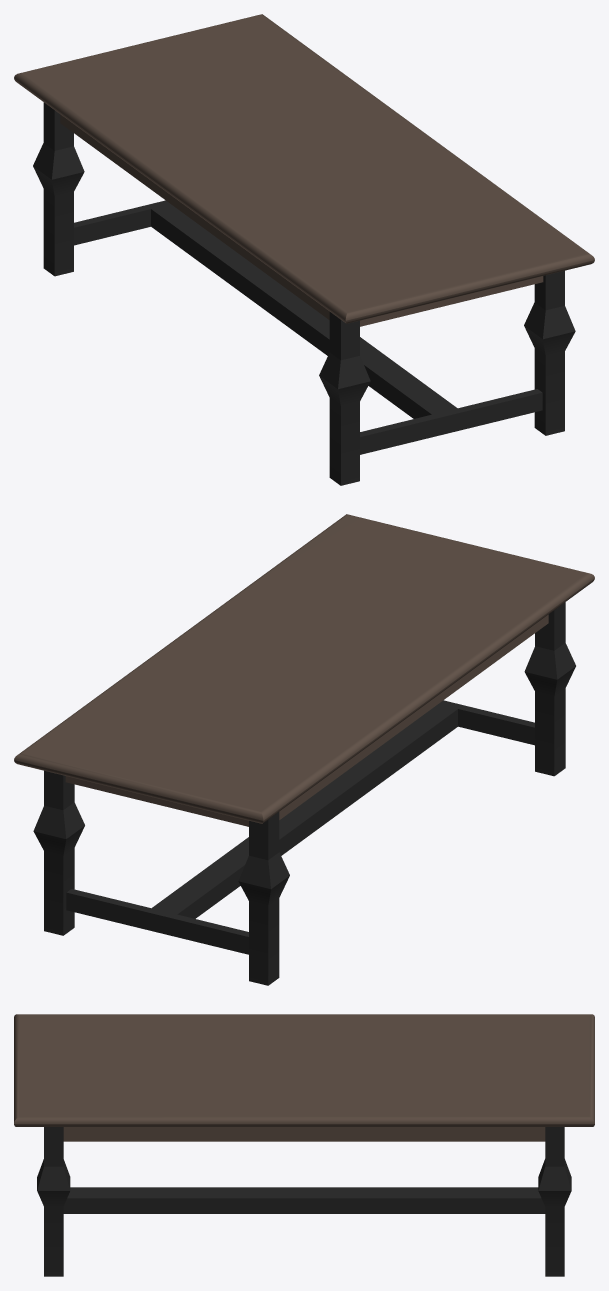
The model's file is GrandeTable_71.fbx.
The picture shows the model from 3 angles, top to bottom: view 1: azimuth 30°, elevation 25°; view 2: azimuth 150°, elevation 25°; view 3: azimuth 270°, elevation 25°; orthographic projection. The views are drawn at different scales.
Visible parts, largest first — view 1: pCube105, pCube107, polySurface28, polySurface29, polySurface31; view 2: pCube105, pCube107, polySurface29, polySurface28, polySurface30; view 3: pCube105, pCube107, polySurface31, polySurface30.
Part boxes in pixels (box(x1,y1,x2,y2)): pCube105: box(14, 14, 594, 326); pCube107: box(74, 200, 542, 454); polySurface28: box(319, 312, 370, 485); polySurface29: box(33, 102, 84, 276); polySurface31: box(524, 270, 575, 435); pCube105: box(14, 514, 594, 826); pCube107: box(66, 700, 534, 954); polySurface29: box(238, 812, 289, 985); polySurface28: box(524, 602, 575, 776); polySurface30: box(33, 770, 84, 935); pCube105: box(14, 1014, 594, 1141); pCube107: box(63, 1187, 545, 1213); polySurface31: box(37, 1127, 70, 1276); polySurface30: box(538, 1127, 571, 1276).
Bounding box in the file's own units: 56.13 × 40.09 × 129.
